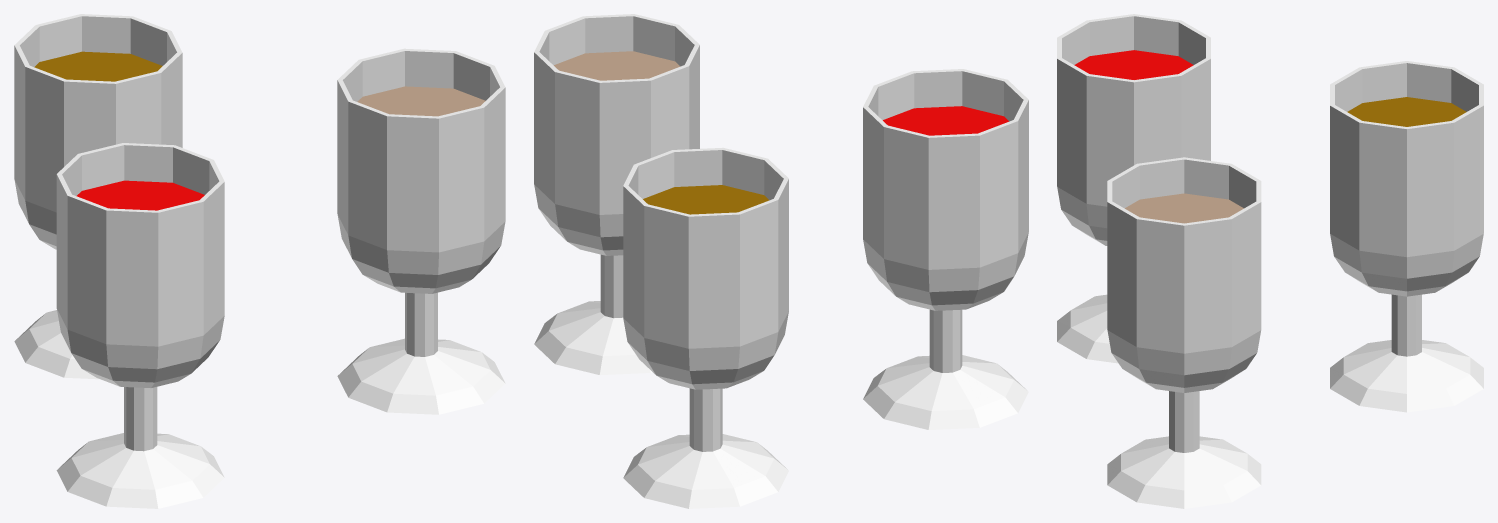
File: glasses.glb
3 renders of one model, left to right at view 1: azimuth 30°, elevation 25°; view 2: azimuth 150°, elevation 25°; view 3: azimuth 270°, elevation 25°, orthographic. The views are drawn at different scales.
Parts seen in each view (by area): view 1: SM_cup_yecan_brown_light_0; view 2: SM_cup_yecan_brown_light_0; view 3: SM_cup_yecan_brown_light_0.
Boxes of the visible parts, bbox=[...] form: SM_cup_yecan_brown_light_0: bbox=[14, 14, 505, 508]; SM_cup_yecan_brown_light_0: bbox=[534, 14, 1028, 508]; SM_cup_yecan_brown_light_0: bbox=[1057, 14, 1483, 508].
Size of the model in its own units: 94.88 by 59.22 by 80.82.
4 materials, 4 textured.
